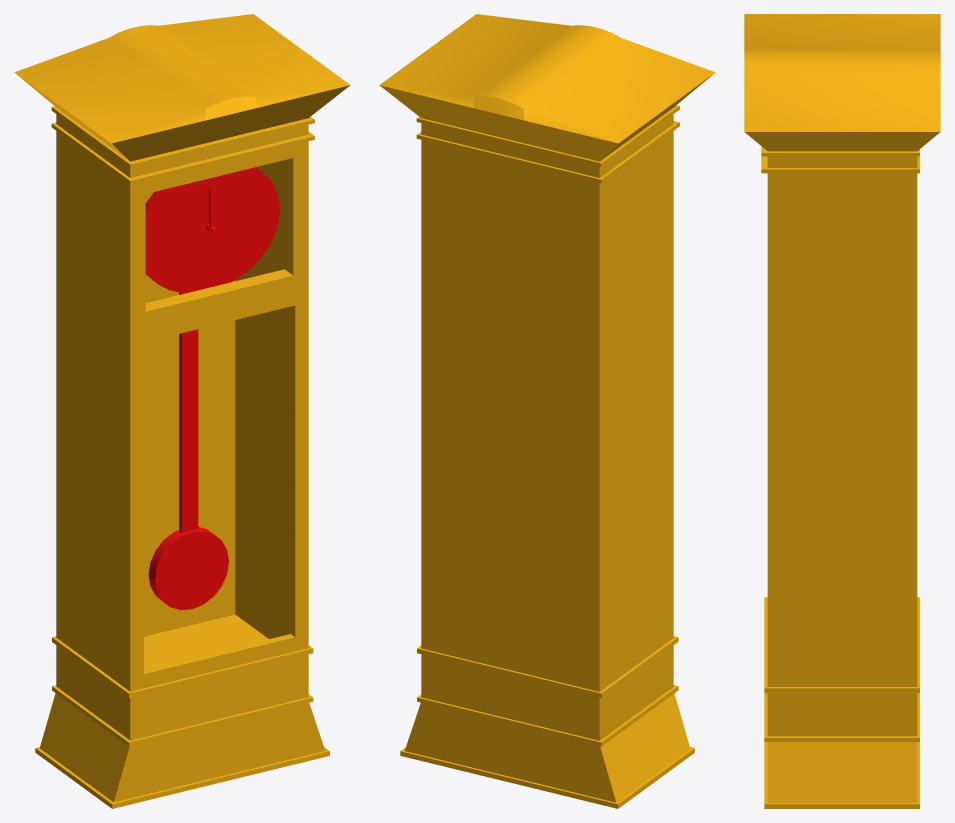
Rendered from old_clock.fbx.
3 views of the same model, side by side, from view 1: azimuth 30°, elevation 25°; view 2: azimuth 150°, elevation 25°; view 3: azimuth 270°, elevation 25° (orthographic).
Visible parts, largest first — view 1: old_clock_final; view 2: old_clock_final; view 3: old_clock_final.
Part boxes in pixels (x1,y1,x2,y2): old_clock_final: (14,14,350,808); old_clock_final: (379,14,715,808); old_clock_final: (744,14,940,808).
Bounding box in the file's own units: 72.46 × 200 × 51.01.
